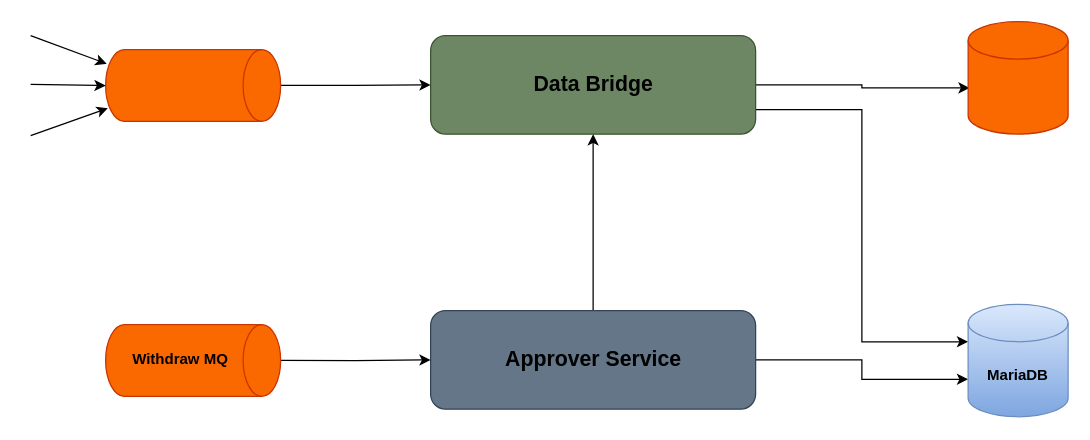
This 1090x440 diagram has some shape labels left out. The shapes that lost their labels are listed below. From the top down, each one's centre as x and y in pixels, then its label:
point 192,84: Balance Actions
point 1017,77: Click House
